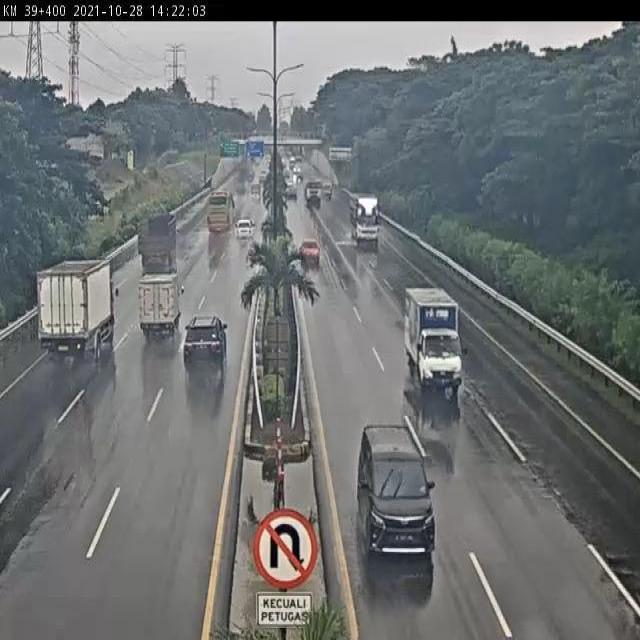big bus: (205, 187, 235, 236)
car: (354, 423, 441, 560), (181, 313, 231, 371), (233, 216, 256, 244), (298, 238, 321, 266)
truck-l-: (36, 256, 115, 360), (136, 212, 177, 273), (346, 191, 382, 249)
truck-s-: (398, 287, 465, 397), (137, 269, 183, 340)
